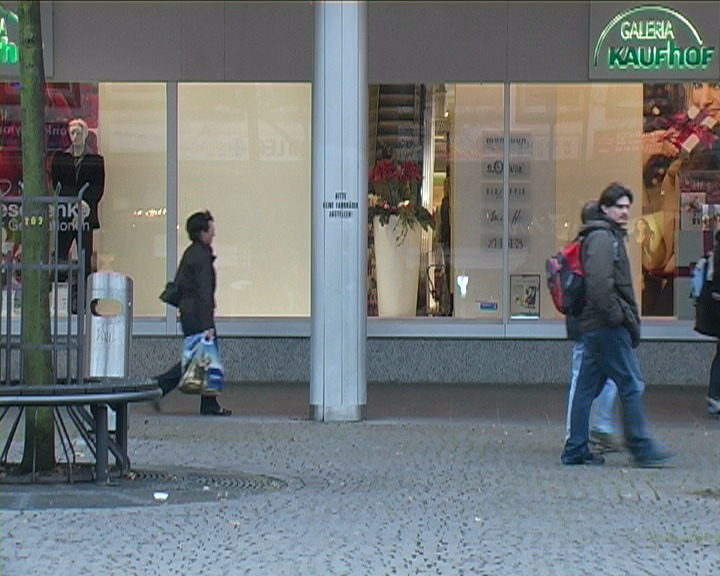deflection: (576, 179, 643, 283)
